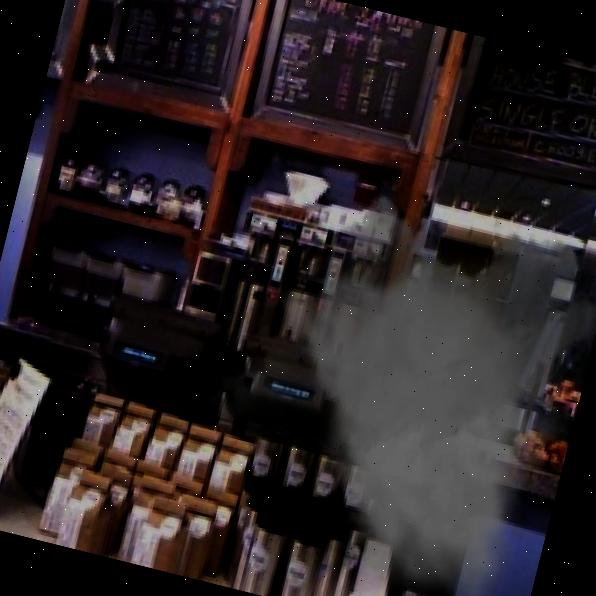smoke: (155, 153, 596, 596)
